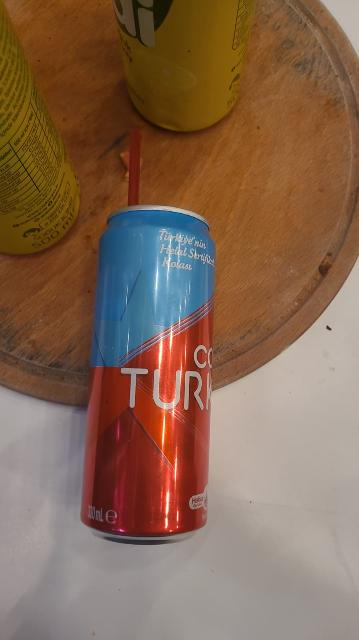Metal: (80, 204, 220, 549), (0, 10, 81, 257), (120, 0, 248, 137)
